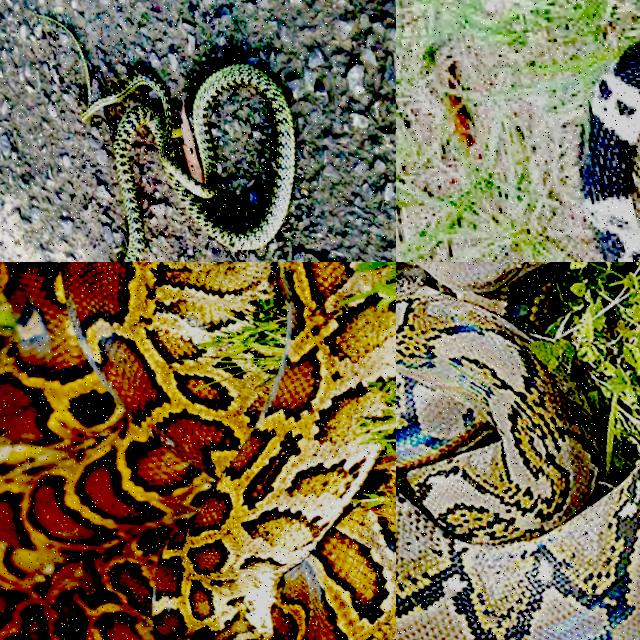Chrysopelea ornata: (33, 13, 295, 261)
Malayopython reticulatus: (396, 262, 639, 639)
Naja siamensis: (578, 40, 639, 261)
Python bivittatus: (0, 262, 395, 639)
snake: (0, 262, 395, 639), (396, 262, 639, 639), (33, 13, 295, 261), (578, 40, 639, 261)
